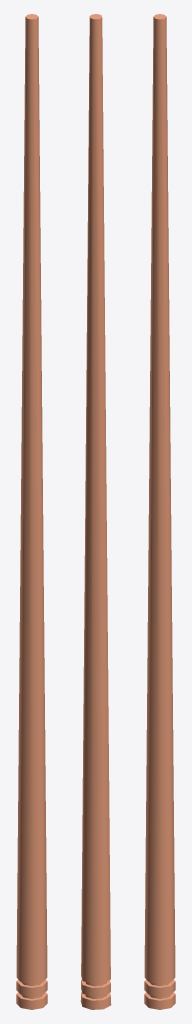
Rendered from chopstick_002.glb.
3 views of the same model, side by side, from view 1: azimuth 90°, elevation 25°; view 2: azimuth 210°, elevation 25°; view 3: azimuth 270°, elevation 25° (orthographic).
Parts seen in each view (by area): view 1: chopstick.002; view 2: chopstick.002; view 3: chopstick.002.
Part boxes in pixels (bbox=[...]): chopstick.002: bbox=[16, 14, 47, 1009]; chopstick.002: bbox=[80, 14, 111, 1009]; chopstick.002: bbox=[144, 14, 175, 1009].
Bounding box in the file's own units: 0.1591 × 5.51 × 0.1591.
1 material, 1 textured.
